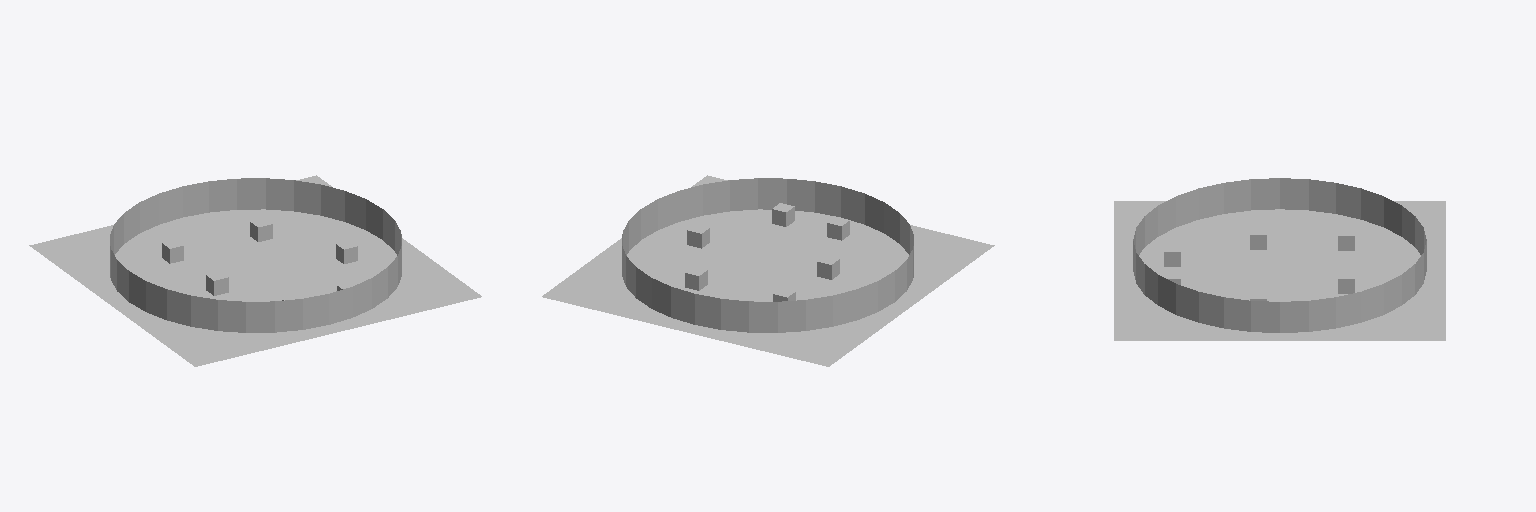
Rendered from arena.obj.
The picture shows the model from 3 angles: view 1: azimuth 30°, elevation 25°; view 2: azimuth 150°, elevation 25°; view 3: azimuth 270°, elevation 25°; orthographic projection.
Parts seen in each view (by area): view 1: Plane, Circle; view 2: Plane, Circle; view 3: Plane, Circle.
Part boxes in pixels (left/top/right/bottom): Plane: left=29, top=175, right=481, bottom=366; Circle: left=110, top=178, right=401, bottom=332; Plane: left=542, top=175, right=994, bottom=366; Circle: left=622, top=178, right=913, bottom=332; Plane: left=1114, top=201, right=1445, bottom=340; Circle: left=1133, top=178, right=1426, bottom=332.
Size of the model in its own units: 23.73 by 2.52 by 23.73.